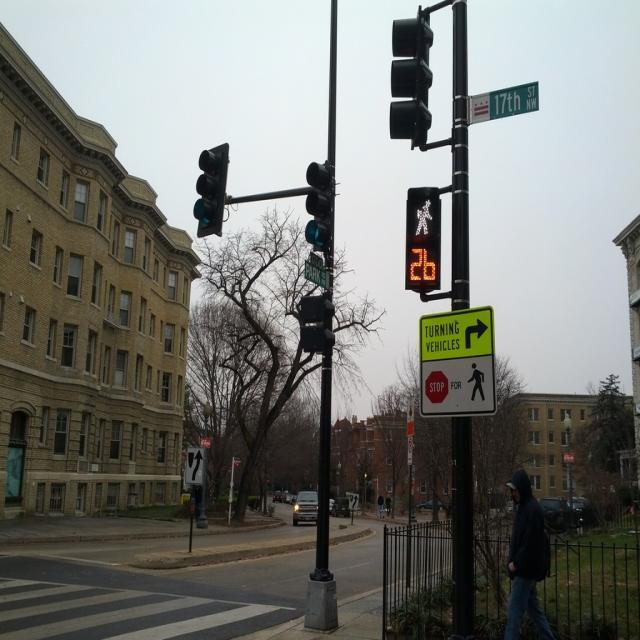off traffic light: (390, 6, 435, 152), (193, 143, 230, 239)
traffic light: (406, 189, 440, 291), (302, 158, 336, 254)
